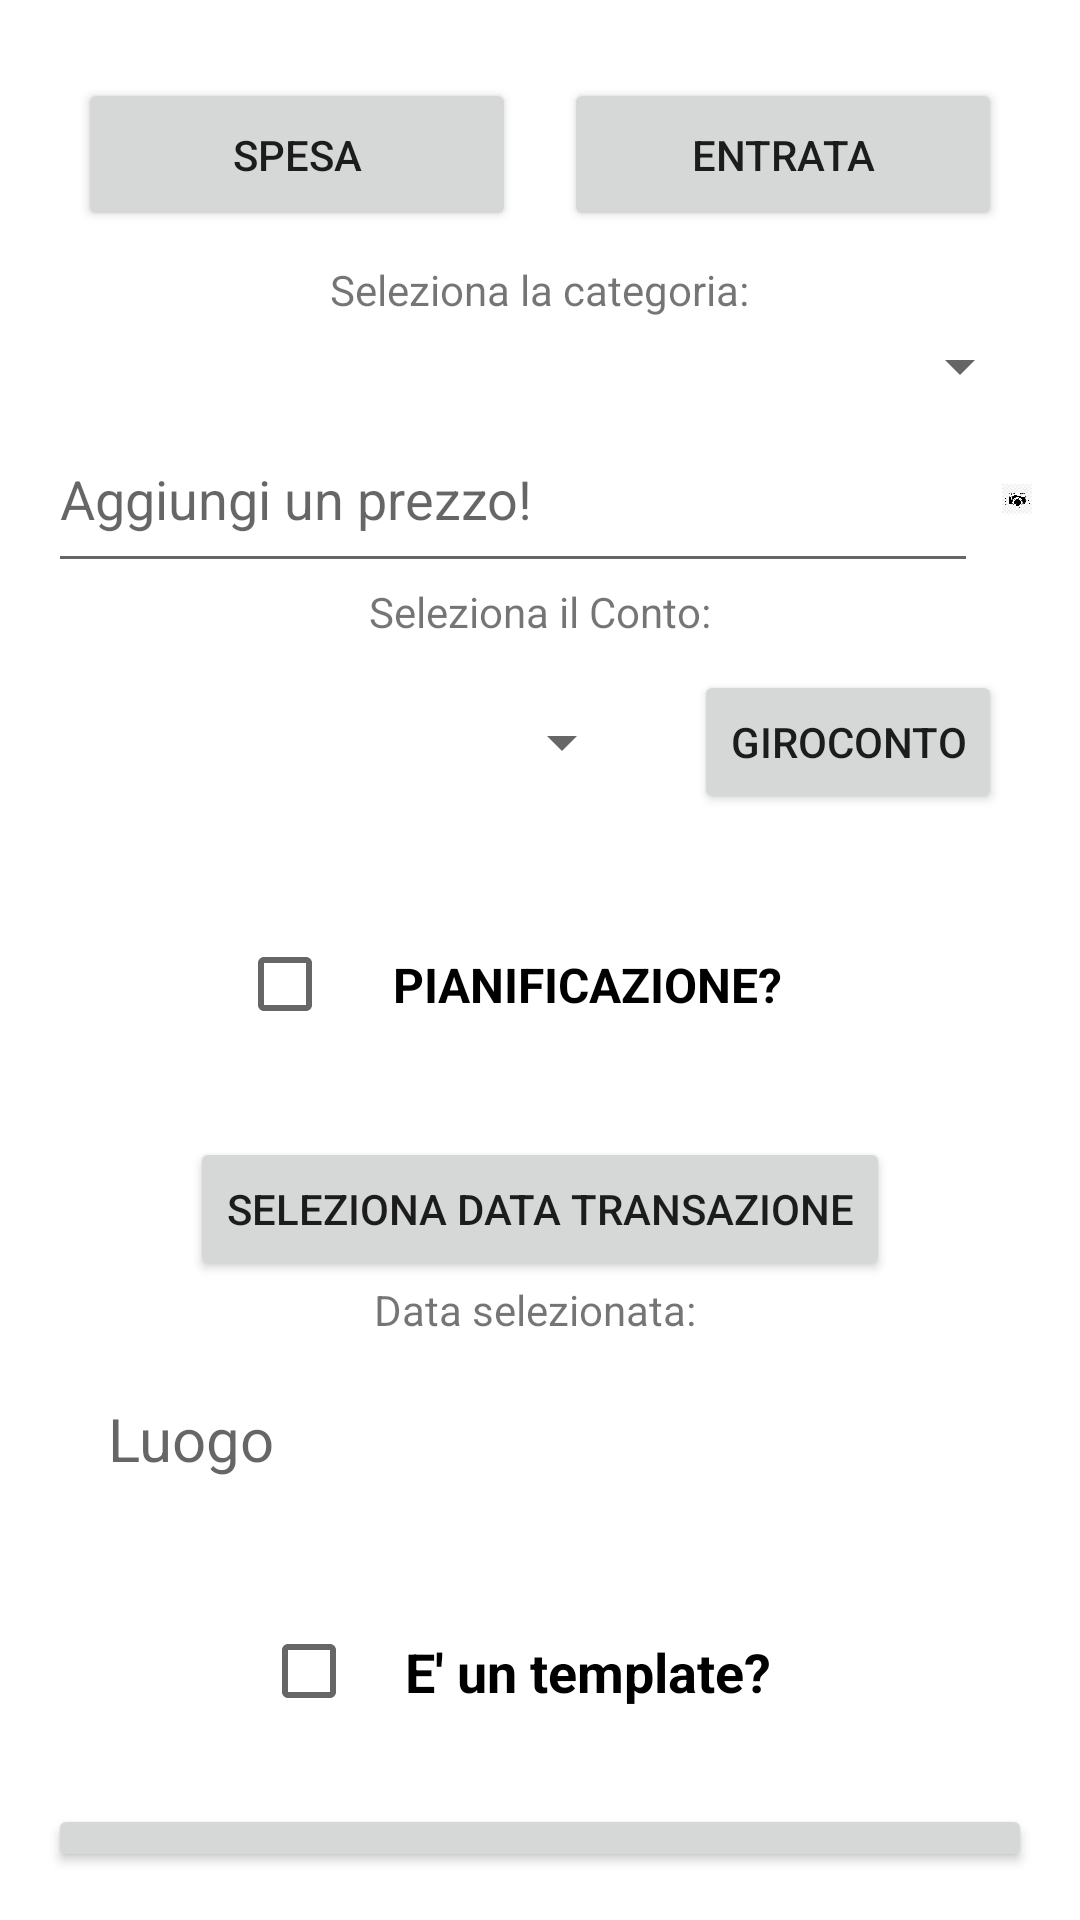

Locate icon controls on the screen. Image size 1080px x 1920px, boxes as box(x1, y1, x2, y2).
Icona della fotocamera: box(1005, 493, 1030, 508)
